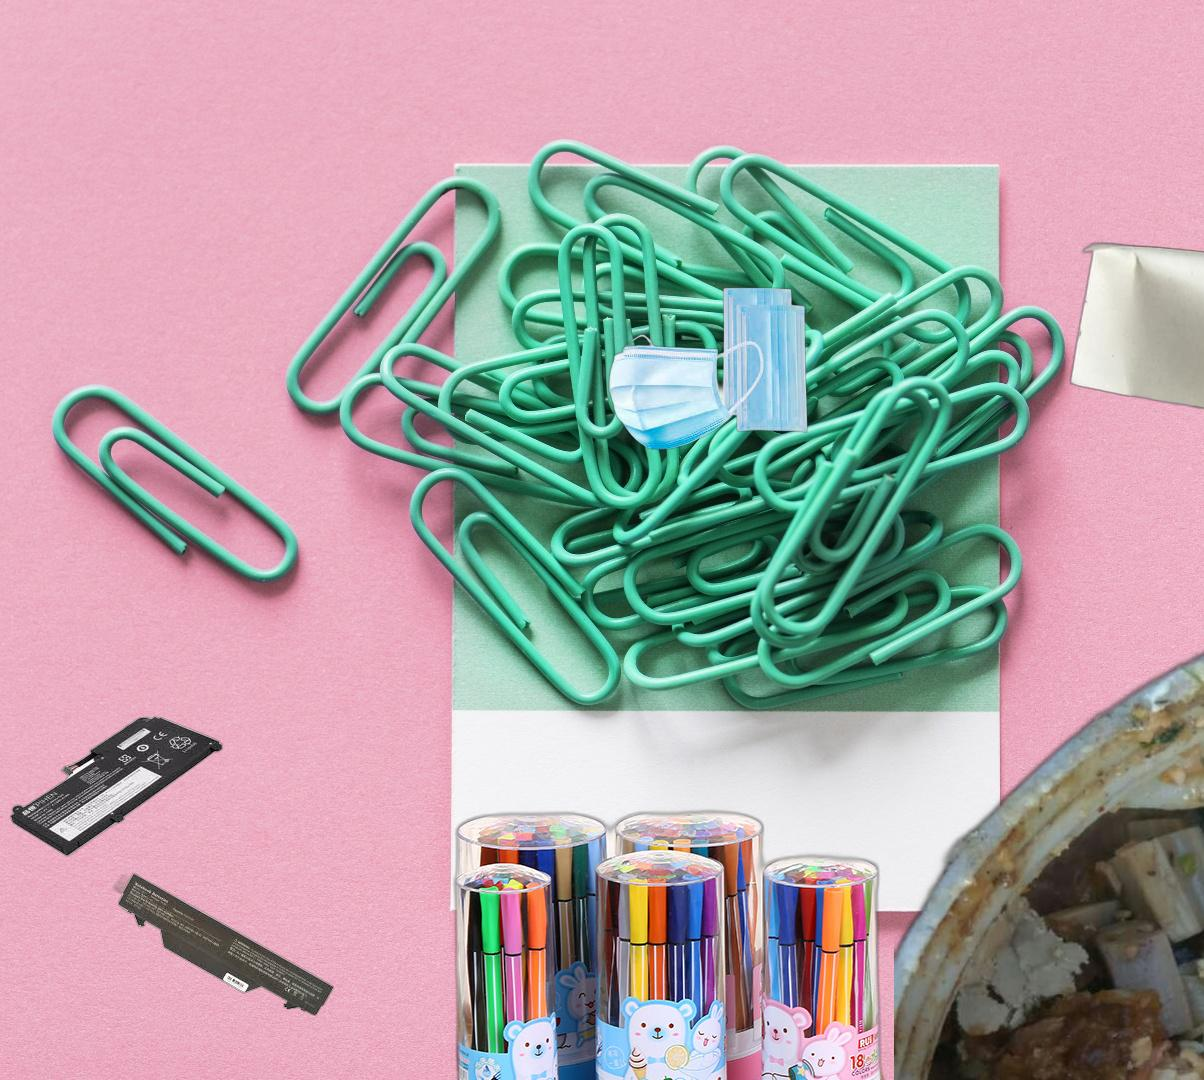battery: (110, 872, 336, 1018), (8, 714, 225, 859)
biological: (894, 576, 1204, 1080)
paper: (1065, 239, 1204, 439)
penholder: (449, 805, 1068, 1080)
trash: (606, 285, 811, 453)
